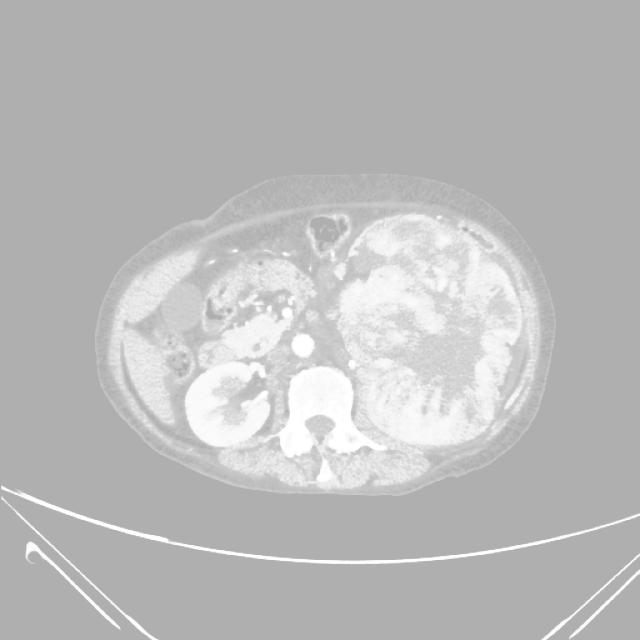TUMOR: (120, 241, 408, 474)
